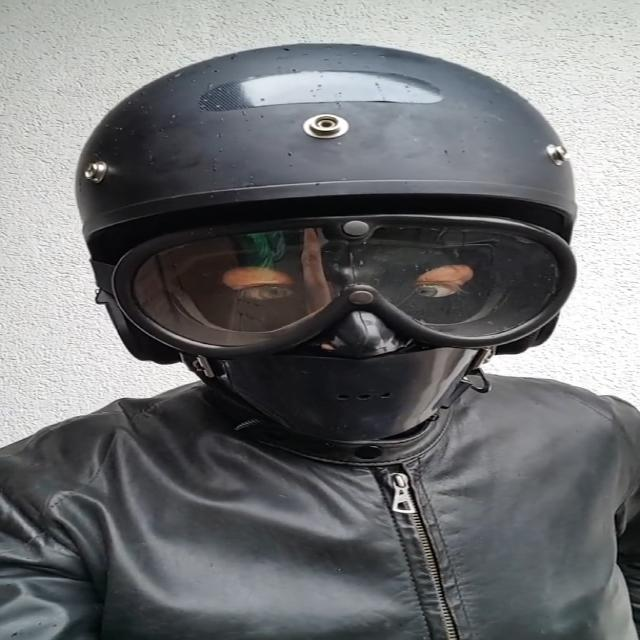Helmet_Wearer: (49, 32, 619, 457)
Jacket_Wearer: (5, 352, 639, 640)
Person: (3, 42, 640, 639)
